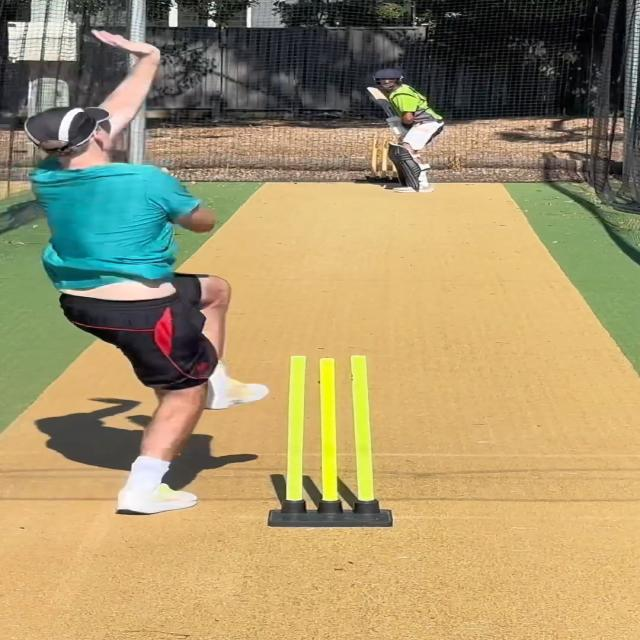stump: (268, 353, 395, 528), (369, 134, 397, 185)
